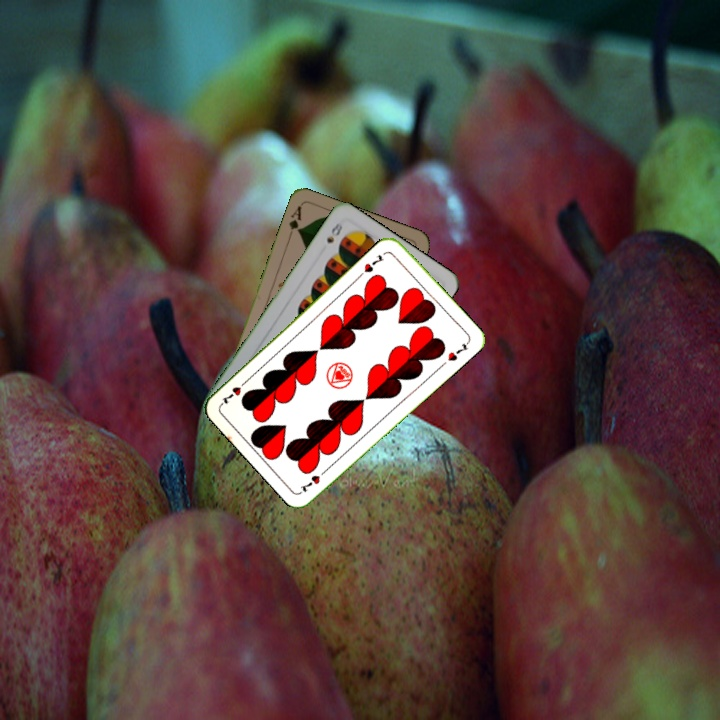GA: (285, 202, 304, 241)
H7: (296, 464, 331, 495), (355, 251, 387, 279)
S8: (322, 217, 345, 246)
